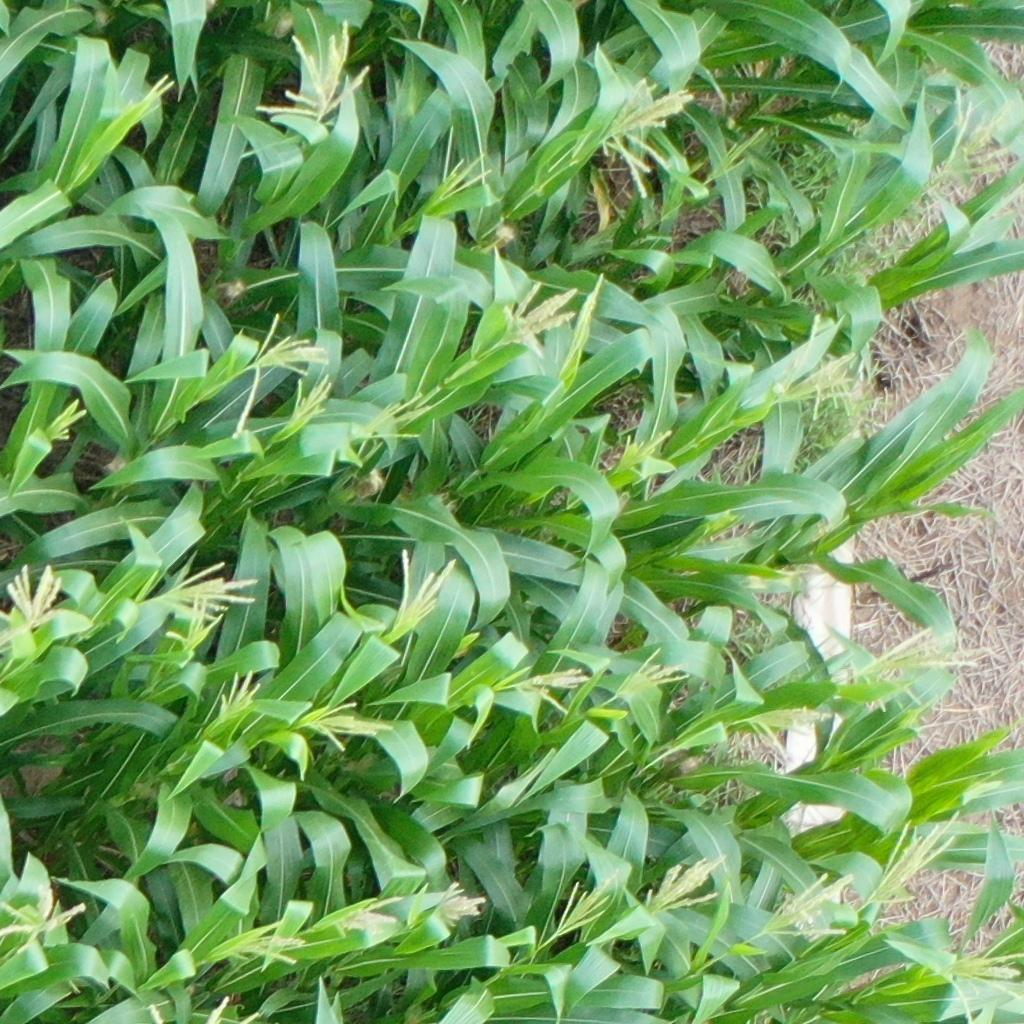Tassel: (255, 6, 373, 133), (594, 72, 697, 204), (230, 311, 325, 436), (850, 623, 986, 708), (765, 310, 867, 420), (861, 809, 969, 909), (937, 84, 1024, 182), (936, 929, 1024, 1023), (753, 865, 853, 944), (387, 543, 466, 643), (608, 642, 699, 715), (1, 881, 88, 955), (162, 556, 261, 621), (499, 278, 582, 354), (741, 700, 832, 768), (428, 120, 497, 207), (504, 665, 594, 730), (638, 851, 729, 911), (558, 857, 621, 939), (309, 697, 401, 753), (145, 981, 263, 1024), (566, 269, 610, 378), (354, 384, 426, 448), (708, 120, 771, 192), (1, 558, 65, 628), (325, 887, 402, 940), (165, 594, 229, 656), (223, 925, 307, 970), (424, 881, 485, 936), (39, 396, 94, 456), (282, 374, 335, 436), (214, 669, 266, 727), (622, 430, 675, 484), (133, 70, 183, 123)
